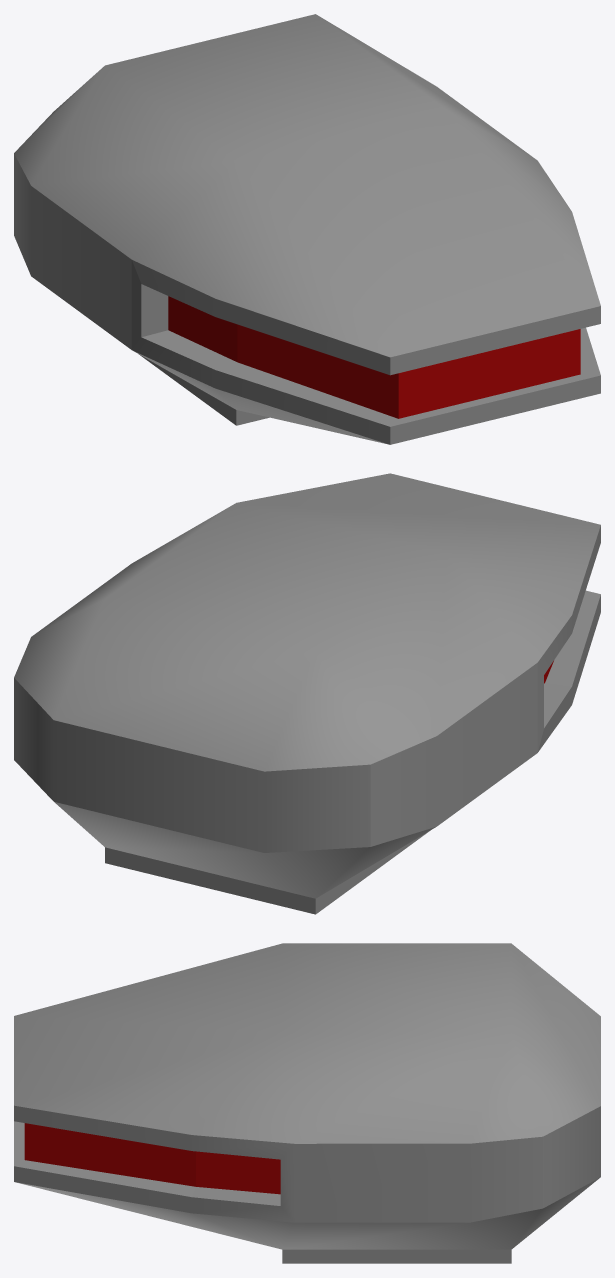
File: RobotHead.fbx
The picture shows the model from 3 angles, top to bottom: view 1: azimuth 30°, elevation 25°; view 2: azimuth 150°, elevation 25°; view 3: azimuth 270°, elevation 25°; orthographic projection. The views are drawn at different scales.
Visible parts, largest first — view 1: pCube3; view 2: pCube3; view 3: pCube3.
Boxes of the visible parts, x1=… form: pCube3: x1=14, y1=14, x2=600, y2=444; pCube3: x1=14, y1=473, x2=600, y2=914; pCube3: x1=14, y1=943, x2=600, y2=1263.
Bounding box in the file's own units: 1.28 × 0.798 × 1.84.
